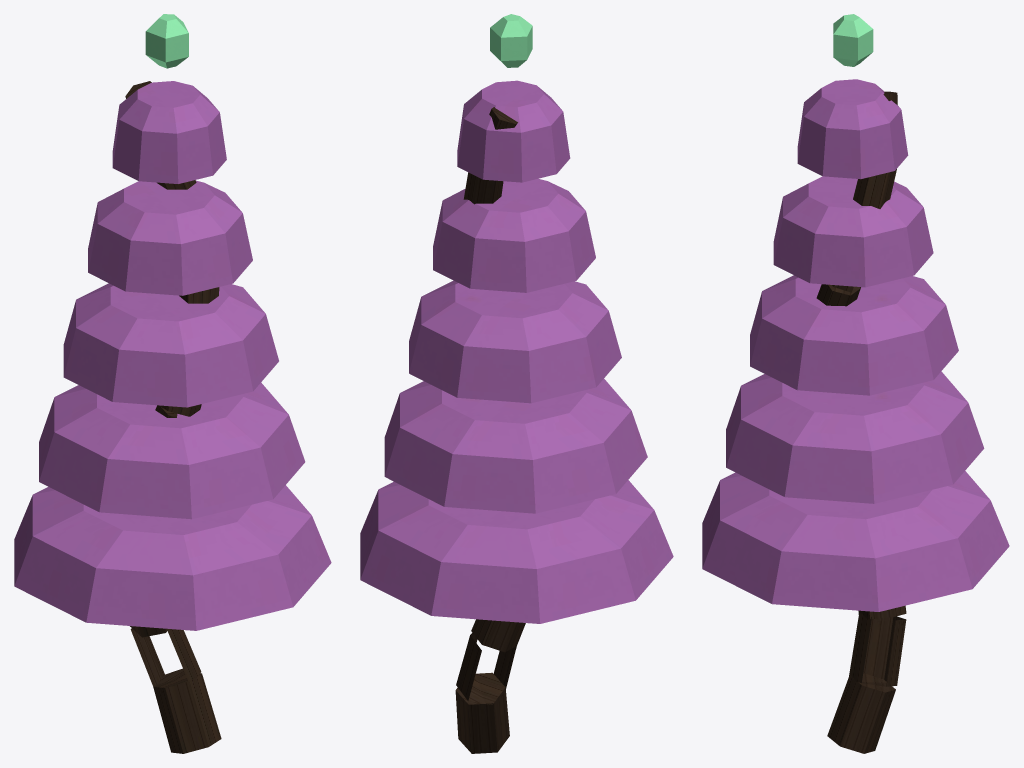
The model's file is tree_spiral_01.glb.
3 views of the same model, side by side, from view 1: azimuth 30°, elevation 25°; view 2: azimuth 150°, elevation 25°; view 3: azimuth 270°, elevation 25° (orthographic). The views are drawn at different scales.
Visible parts, largest first — view 1: tree_spiral_01; view 2: tree_spiral_01; view 3: tree_spiral_01.
Part boxes in pixels (x1=…): tree_spiral_01: x1=14, y1=14, x2=331, y2=753; tree_spiral_01: x1=360, y1=14, x2=673, y2=753; tree_spiral_01: x1=702, y1=14, x2=1009, y2=753.
Bounding box in the file's own units: 2.46 × 6.26 × 2.42.
3 materials, 3 textured.
